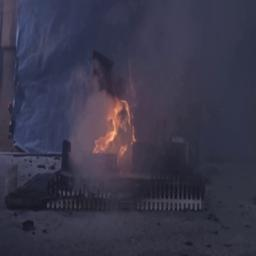fire: (80, 92, 136, 163)
